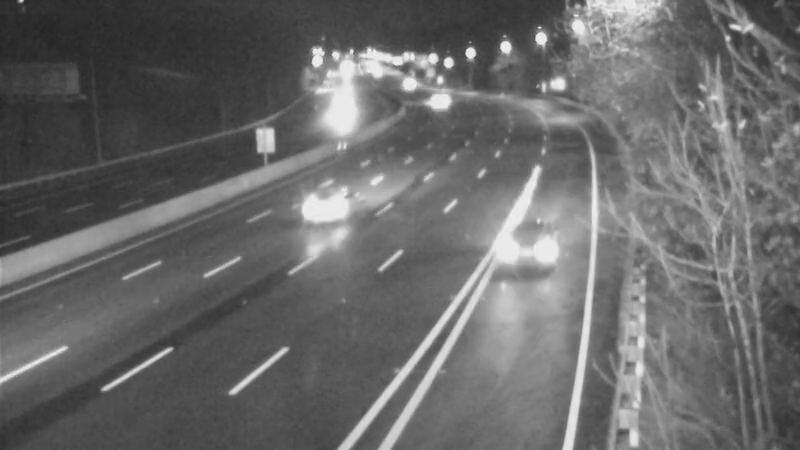vehicle: (271, 169, 351, 249), (489, 201, 569, 281), (414, 80, 464, 130), (316, 92, 366, 142)
